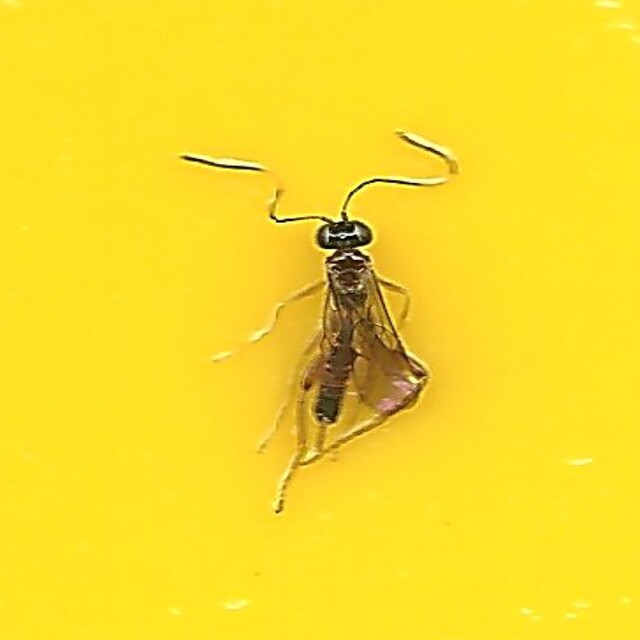Hymenoptera: (176, 133, 464, 507)
